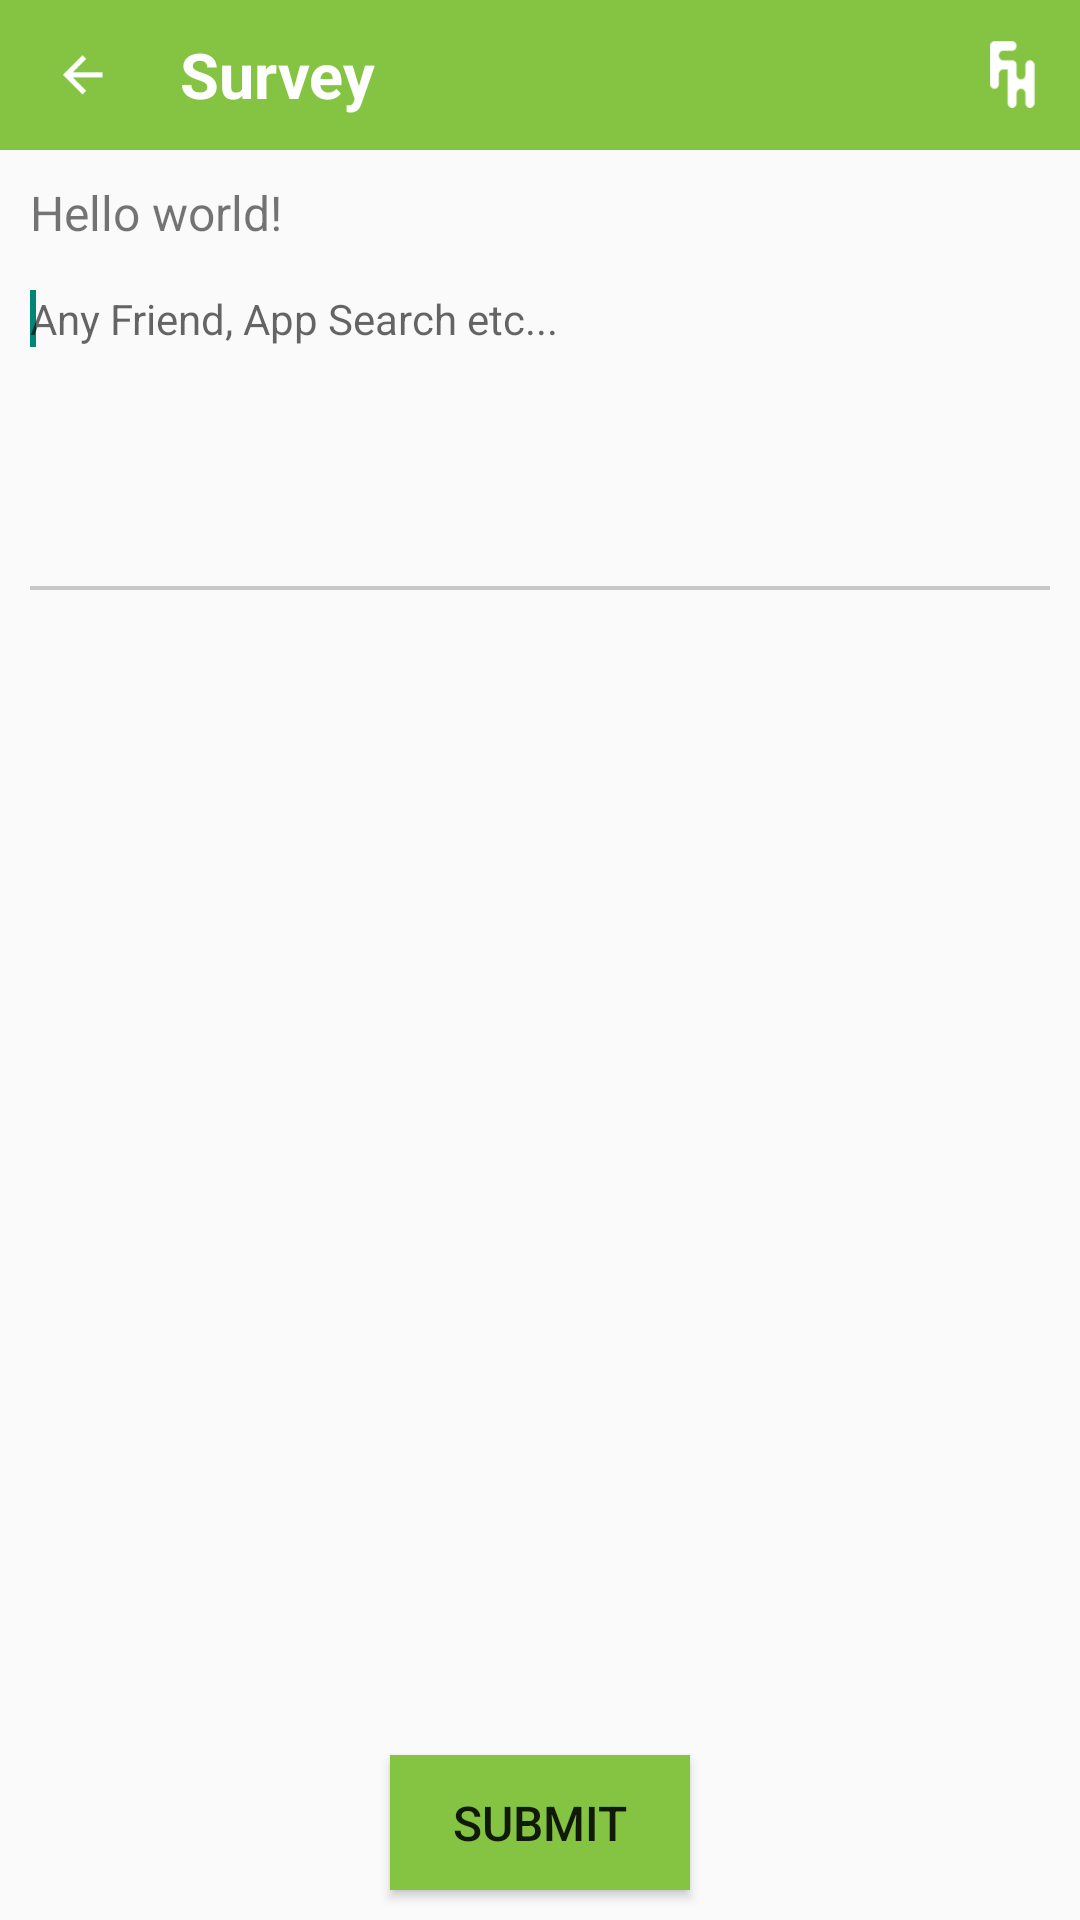

Named icons in this screenshot (1080×1920) and their centers, (x,y):
back: (83,75)
